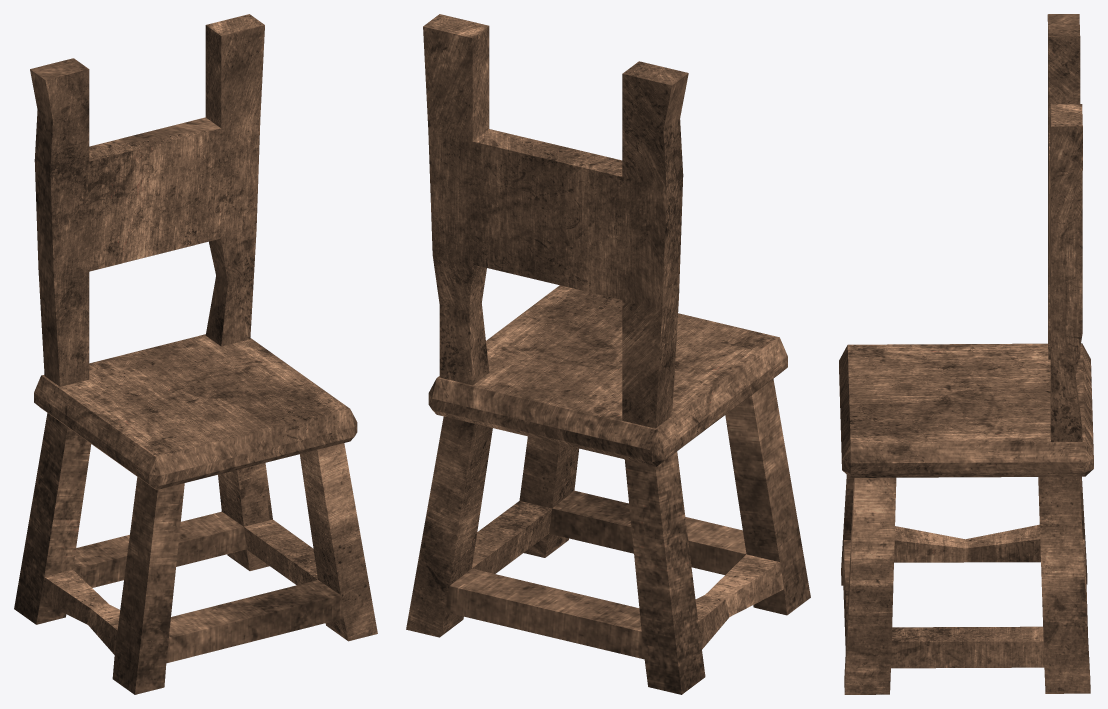
File: Chair.fbx
3 renders of one model, left to right at view 1: azimuth 30°, elevation 25°; view 2: azimuth 150°, elevation 25°; view 3: azimuth 270°, elevation 25°, orthographic. The views are drawn at different scales.
Visible parts, largest first — view 1: Chair; view 2: Chair; view 3: Chair.
Part boxes in pixels (x1,y1,x2,y2): Chair: (14,14,377,694); Chair: (406,14,810,694); Chair: (839,14,1093,694).
Bounding box in the file's own units: 0.7178 × 1.5 × 0.6152.
1 material, 1 textured.
